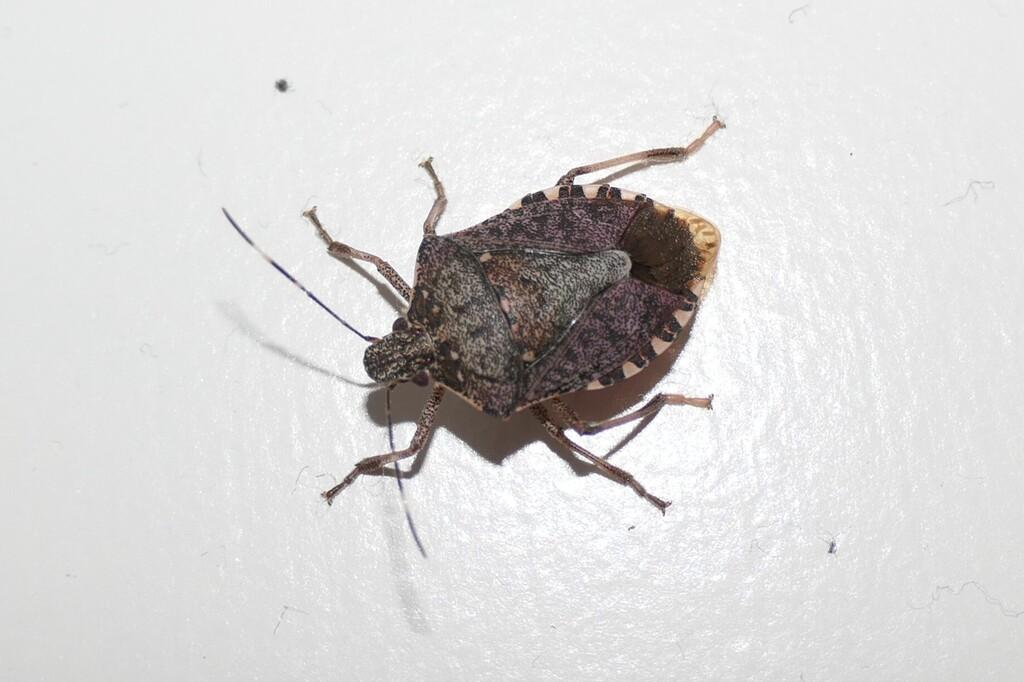stink_bugs: (171, 74, 823, 641)
